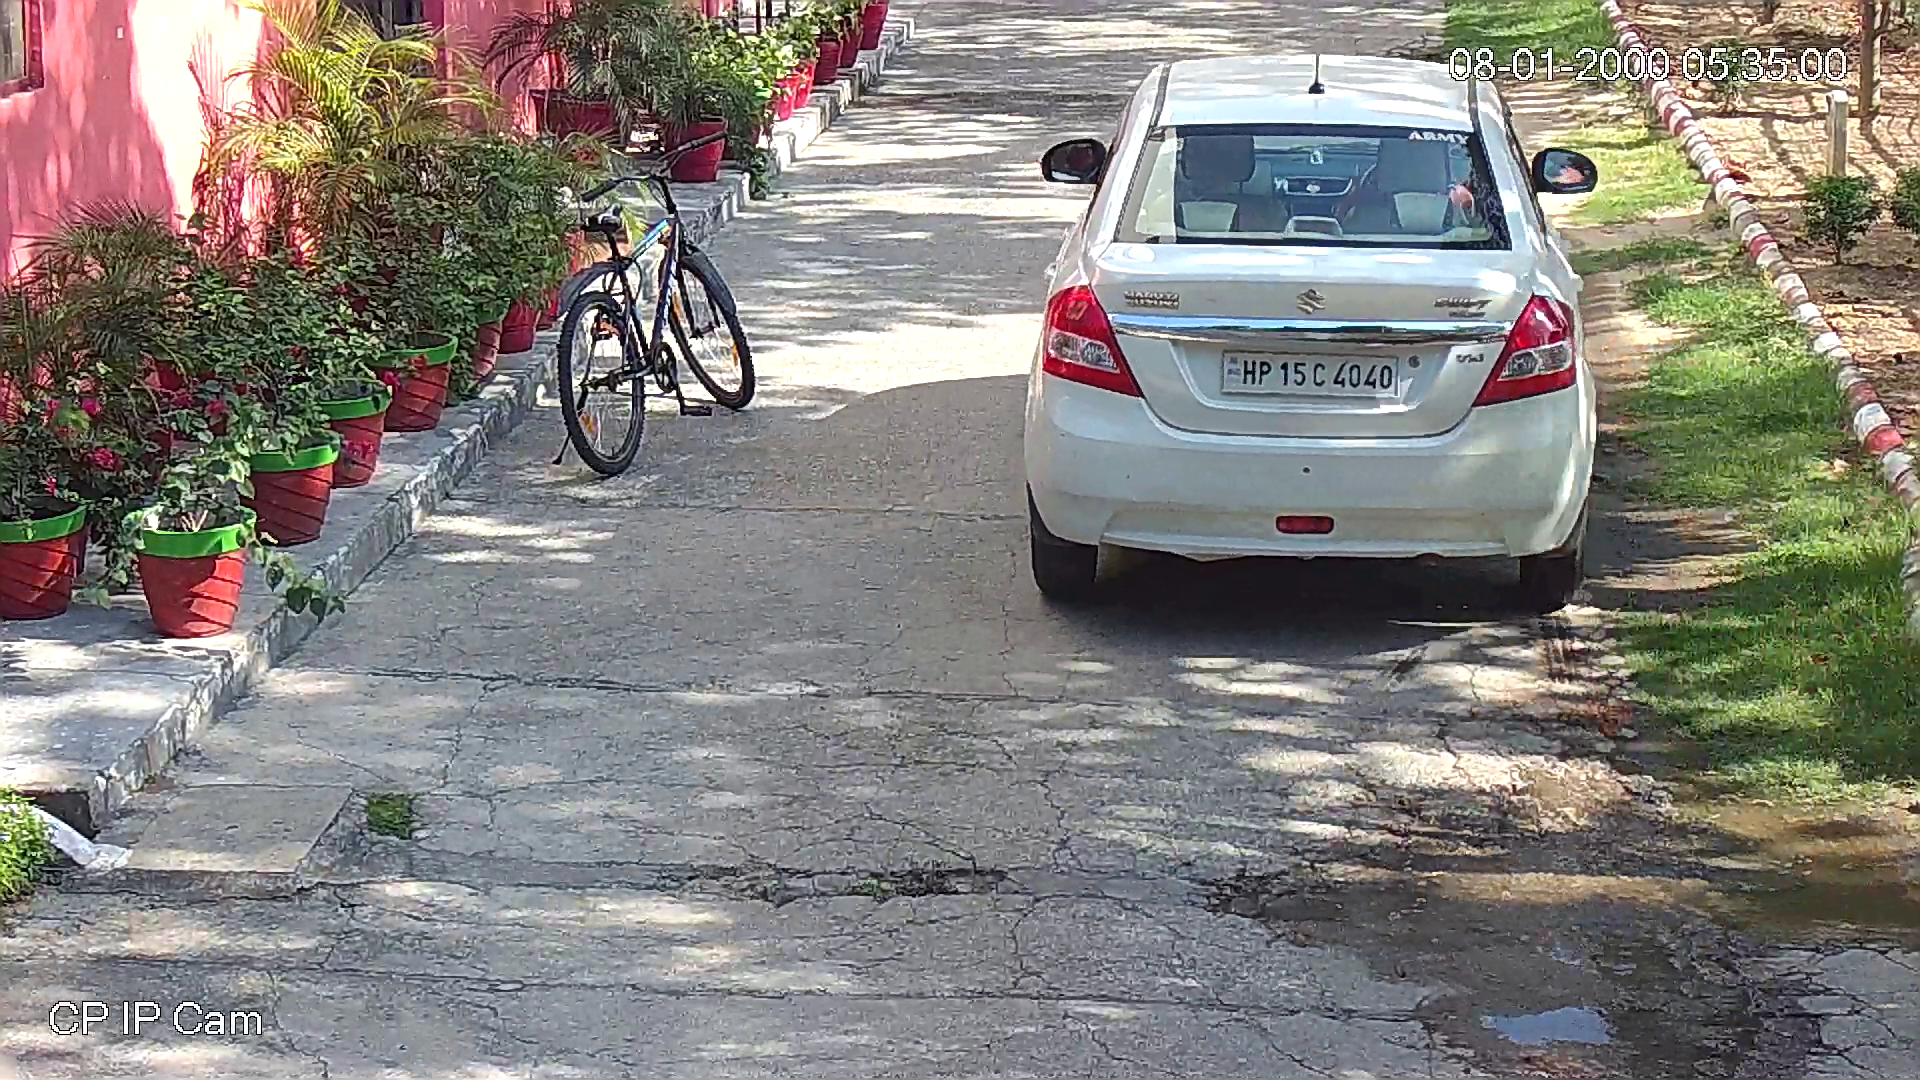plate: (1214, 350, 1403, 398)
